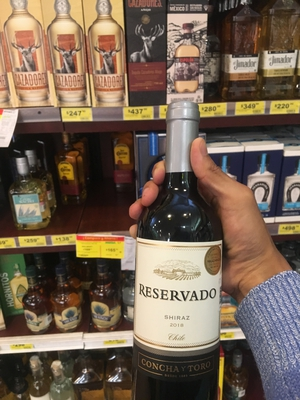reservado shiraz: (122, 101, 230, 400)
